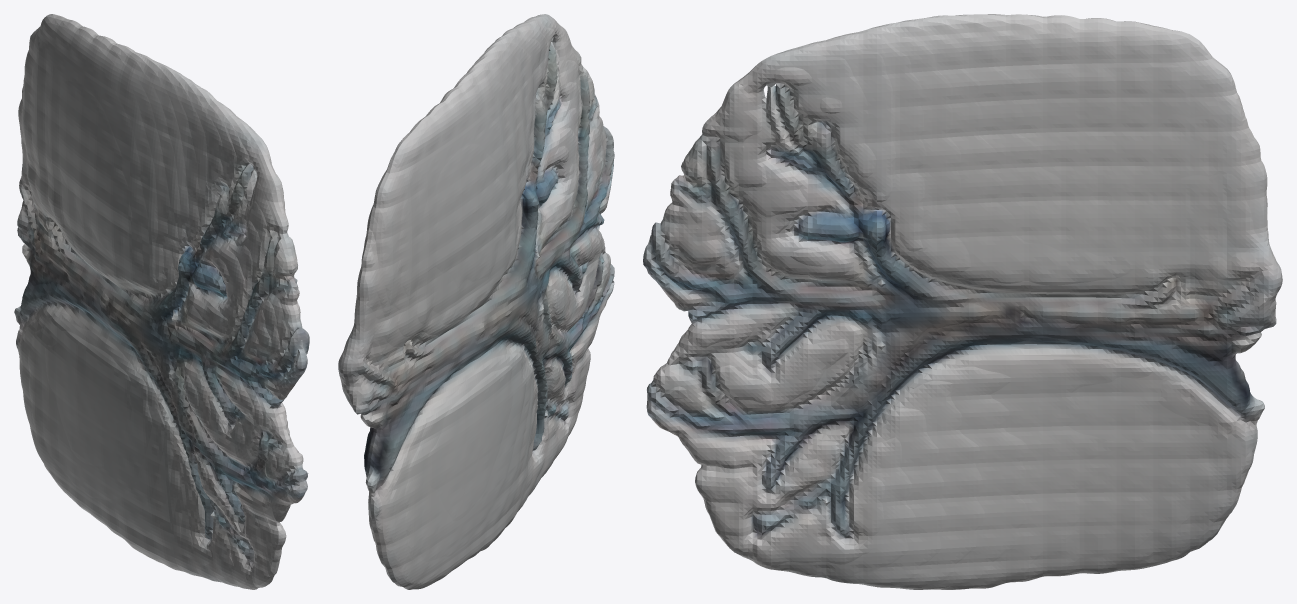
File: treeRefined2.glb
3 renders of one model, left to right at view 1: azimuth 30°, elevation 25°; view 2: azimuth 150°, elevation 25°; view 3: azimuth 270°, elevation 25°, orthographic. The views are drawn at different scales.
Parts seen in each view (by area): view 1: world; view 2: world; view 3: world.
Boxes of the visible parts, x1,y1,x2,y2 form: world: (14,14,309,589); world: (338,14,614,589); world: (643,14,1282,589).
Size of the model in its own units: 0.1192 by 0.9424 by 0.9479.
